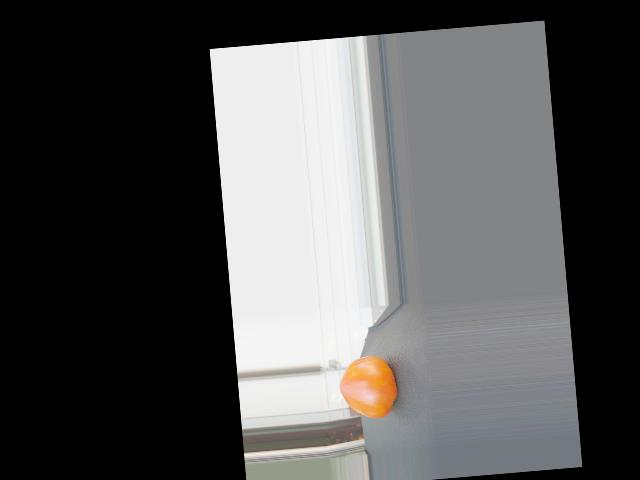tomato: (336, 353, 399, 421)
